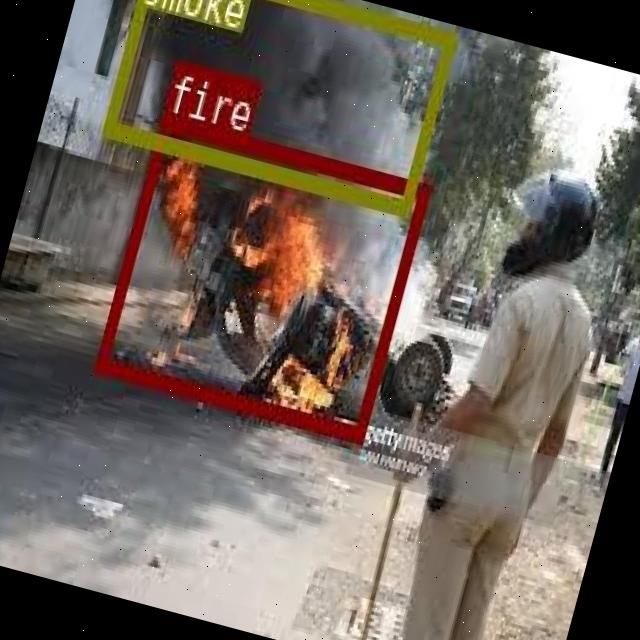fire: (91, 112, 428, 440)
smoke: (100, 0, 454, 211)
